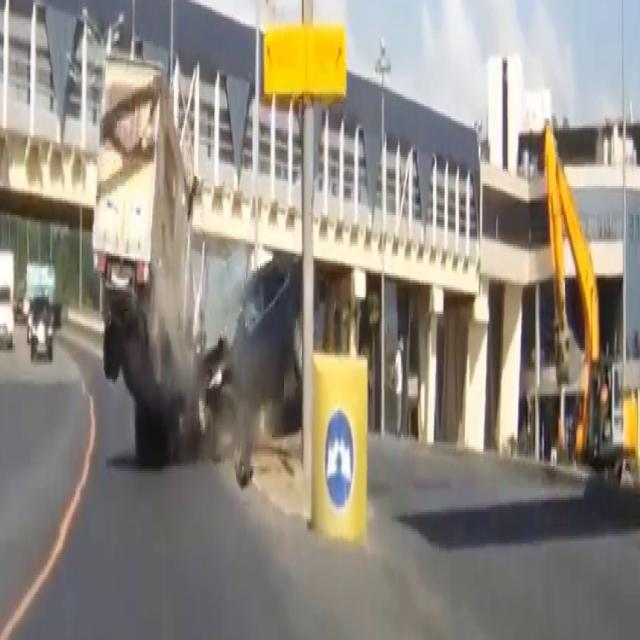accident: (93, 47, 302, 486)
